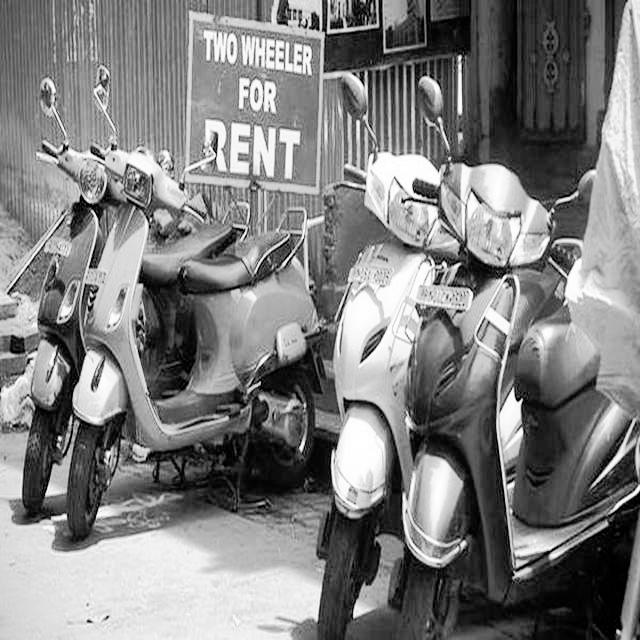Bike: (426, 84, 640, 640), (91, 84, 319, 539), (18, 73, 107, 604), (336, 84, 415, 640)
